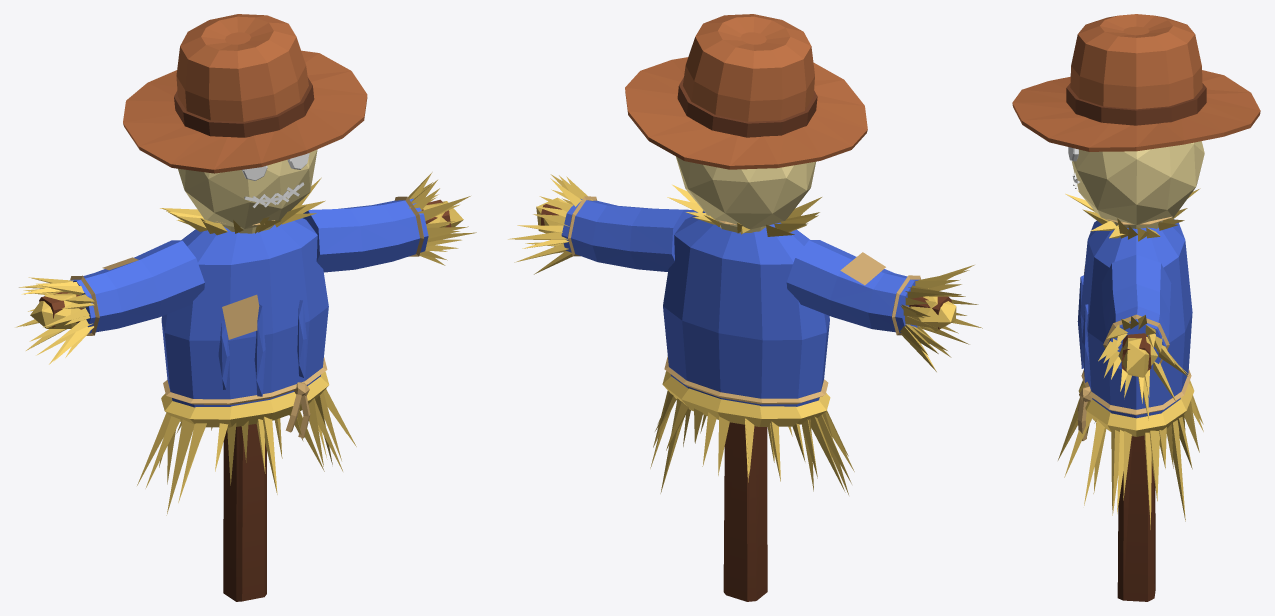
Rendered from scarecrow.fbx.
3 views of the same model, side by side, from view 1: azimuth 30°, elevation 25°; view 2: azimuth 150°, elevation 25°; view 3: azimuth 270°, elevation 25° (orthographic).
Parts seen in each view (by area): view 1: scarecrow_Shirt, scarecrow_Hat, scarecrow_StrawHem, scarecrow_Post, scarecrow_Head, scarecrow_StrawWristR, scarecrow_Rope, scarecrow_HatBand, scarecrow_StrawWristL, scarecrow_StrawCollar, scarecrow_Patches; view 2: scarecrow_Shirt, scarecrow_Hat, scarecrow_StrawHem, scarecrow_Post, scarecrow_Head, scarecrow_StrawWristR, scarecrow_HatBand, scarecrow_StrawWristL, scarecrow_Rope, scarecrow_StrawCollar, scarecrow_Patches; view 3: scarecrow_Hat, scarecrow_Shirt, scarecrow_Head, scarecrow_StrawHem, scarecrow_Post, scarecrow_StrawWristL, scarecrow_HatBand, scarecrow_Rope, scarecrow_StrawCollar.
Boxes of the visible parts, x1=… form: scarecrow_Shirt: x1=70, y1=198, x2=428, y2=407; scarecrow_Hat: x1=123, y1=14, x2=367, y2=173; scarecrow_StrawHem: x1=137, y1=371, x2=356, y2=515; scarecrow_Post: x1=39, y1=199, x2=451, y2=601; scarecrow_Head: x1=178, y1=149, x2=317, y2=233; scarecrow_StrawWristR: x1=15, y1=277, x2=94, y2=364; scarecrow_Rope: x1=70, y1=196, x2=423, y2=438; scarecrow_HatBand: x1=174, y1=77, x2=314, y2=137; scarecrow_StrawWristL: x1=408, y1=172, x2=476, y2=265; scarecrow_StrawCollar: x1=160, y1=177, x2=325, y2=235; scarecrow_Patches: x1=102, y1=257, x2=259, y2=339; scarecrow_Shirt: x1=561, y1=198, x2=919, y2=406; scarecrow_Hat: x1=625, y1=14, x2=867, y2=169; scarecrow_StrawHem: x1=650, y1=371, x2=854, y2=494; scarecrow_Post: x1=541, y1=204, x2=951, y2=601; scarecrow_Head: x1=676, y1=156, x2=815, y2=233; scarecrow_StrawWristR: x1=900, y1=265, x2=982, y2=371; scarecrow_HatBand: x1=677, y1=77, x2=817, y2=137; scarecrow_StrawWristL: x1=508, y1=174, x2=592, y2=274; scarecrow_Rope: x1=568, y1=196, x2=920, y2=404; scarecrow_StrawCollar: x1=667, y1=184, x2=821, y2=236; scarecrow_Patches: x1=840, y1=252, x2=885, y2=285; scarecrow_Hat: x1=1012, y1=14, x2=1260, y2=151; scarecrow_Shirt: x1=1077, y1=219, x2=1192, y2=418; scarecrow_Head: x1=1072, y1=141, x2=1204, y2=228; scarecrow_StrawHem: x1=1058, y1=380, x2=1203, y2=529; scarecrow_Post: x1=1117, y1=333, x2=1155, y2=601; scarecrow_StrawWristL: x1=1098, y1=315, x2=1188, y2=420; scarecrow_HatBand: x1=1066, y1=83, x2=1206, y2=125; scarecrow_Rope: x1=1077, y1=216, x2=1191, y2=440; scarecrow_StrawCollar: x1=1065, y1=188, x2=1200, y2=241.
Bounding box in the file's own units: 7.64 × 9.39 × 3.72.
